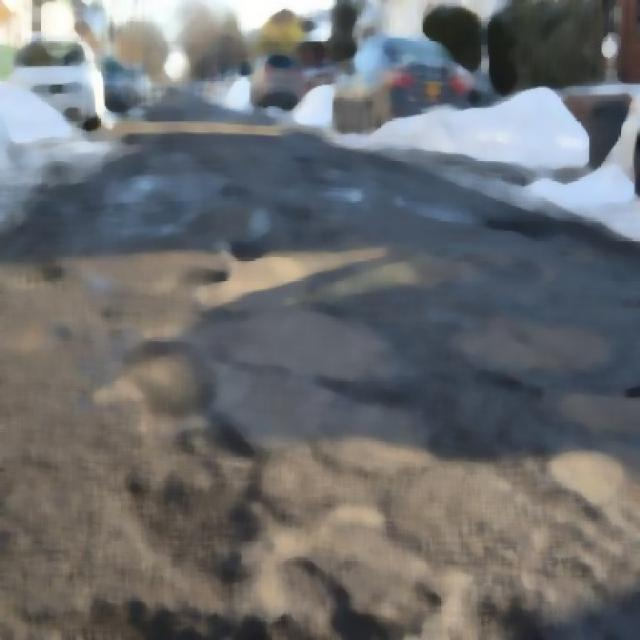Pothole: (78, 586, 411, 639), (147, 441, 256, 582), (486, 212, 560, 252), (121, 163, 161, 211), (22, 258, 64, 293), (157, 267, 235, 284), (233, 238, 265, 264), (617, 373, 640, 409), (617, 292, 640, 316)
